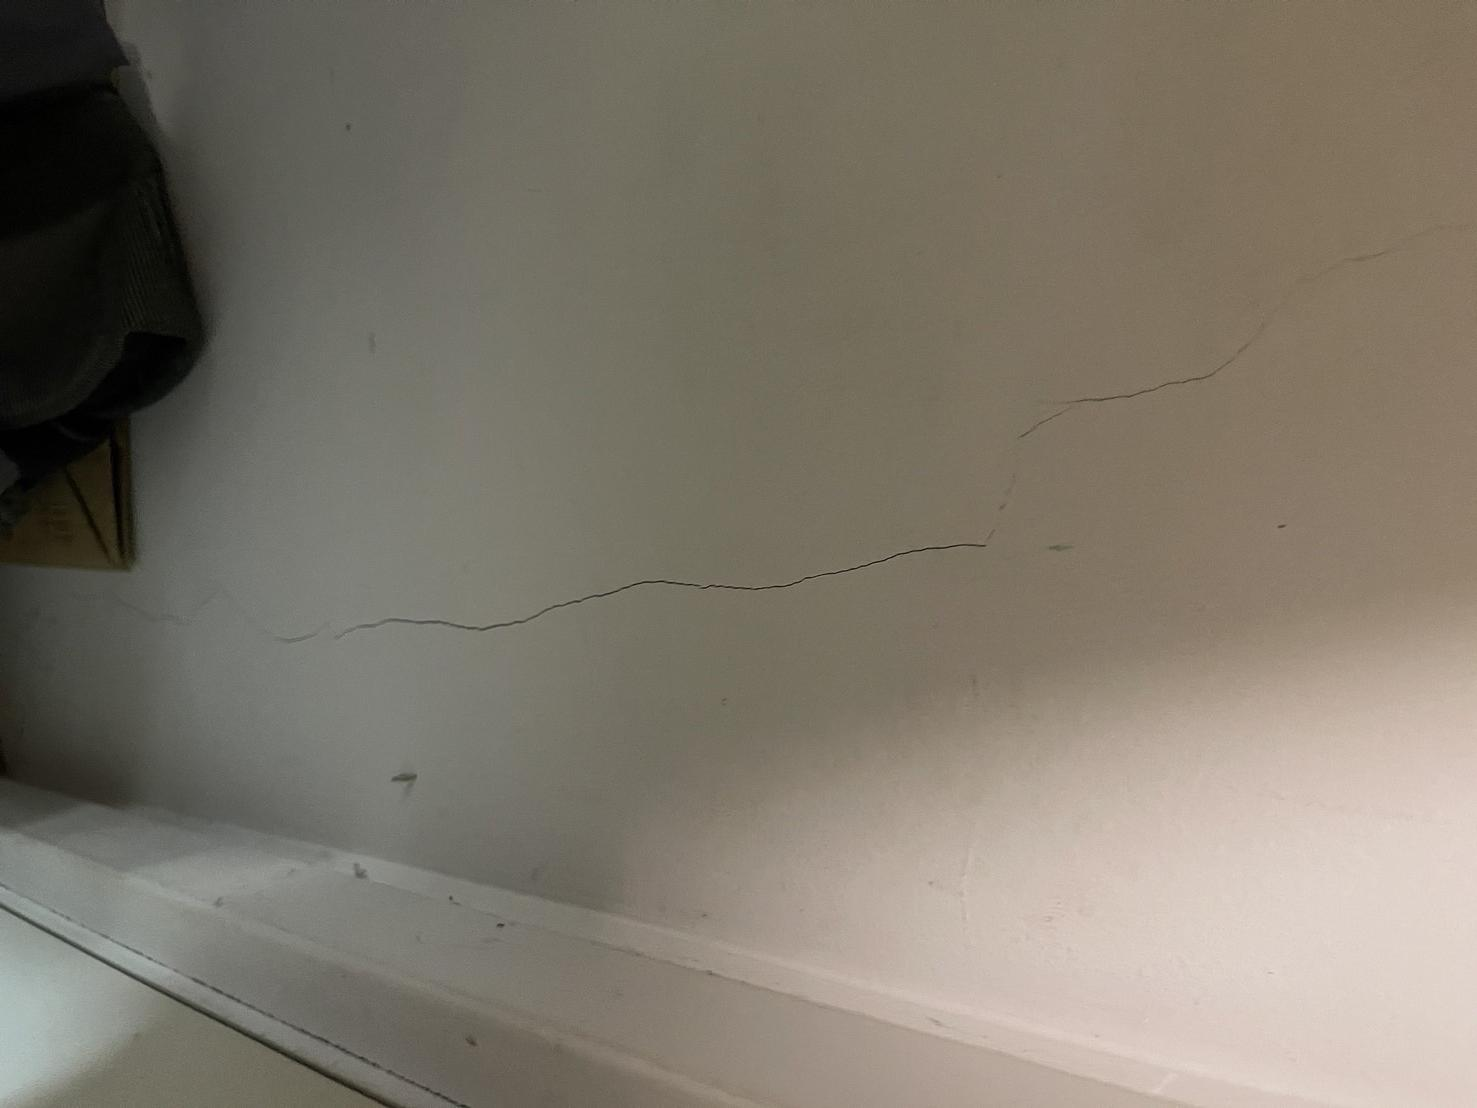Low: (17, 216, 1477, 688)
